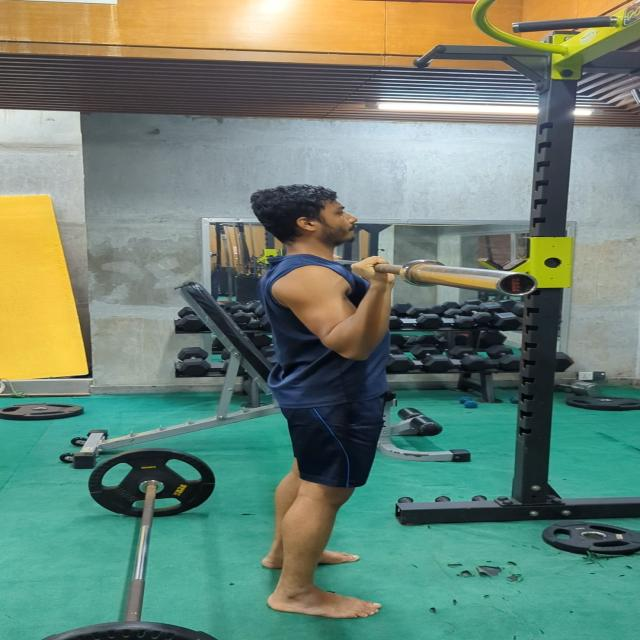Normal_OverheadPress: (219, 170, 430, 623)
